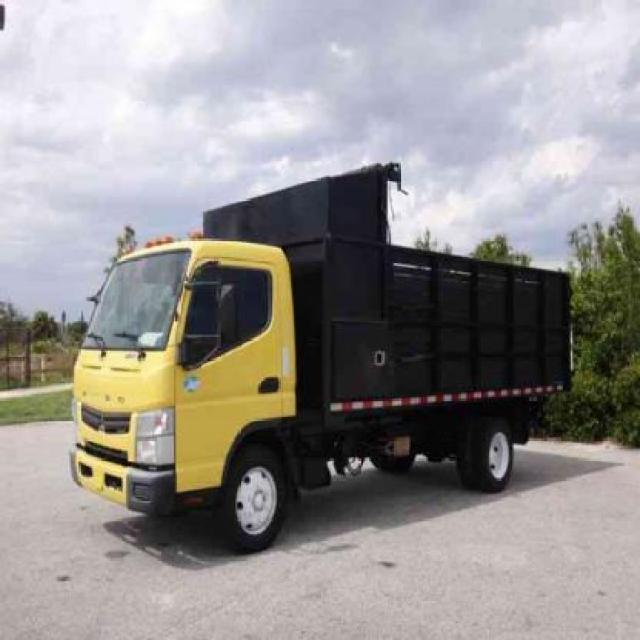truck: (71, 240, 569, 554)
